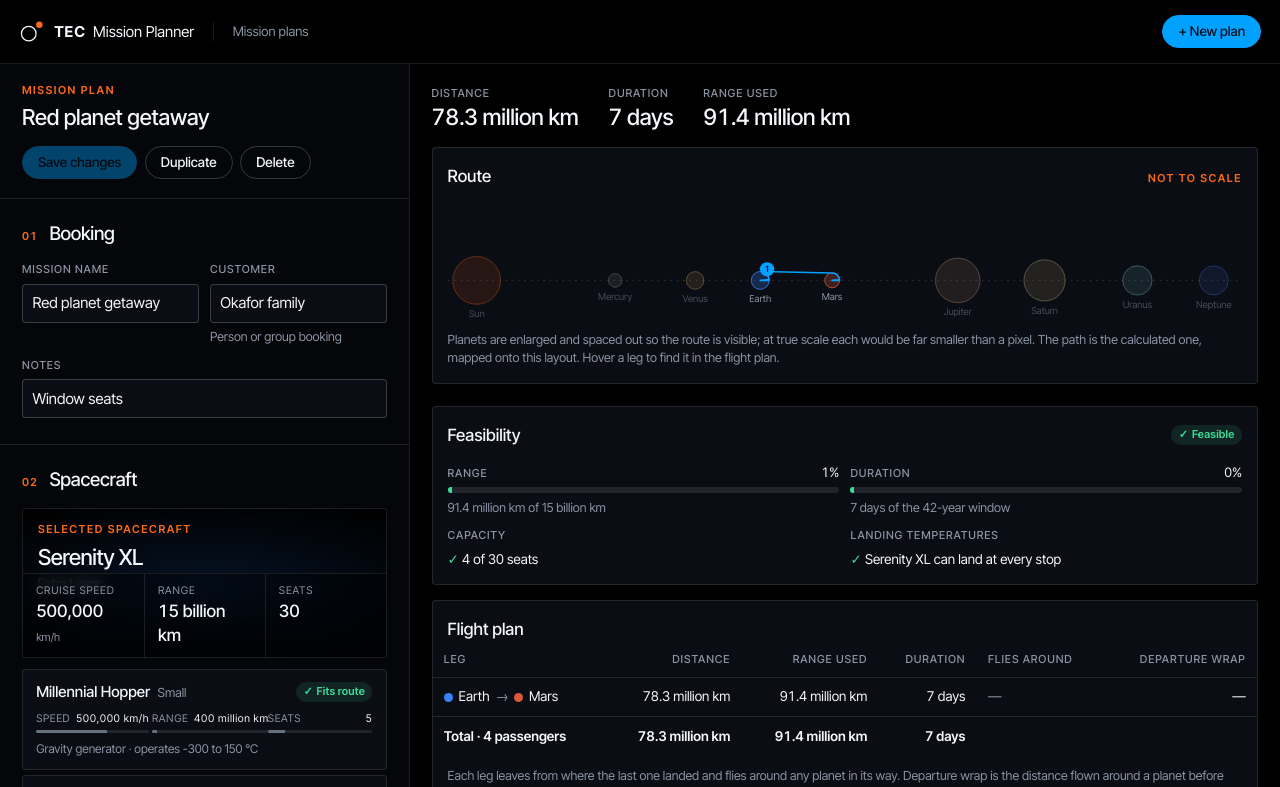
Scenario: Editing a saved plan › duplicates the plan and opens the copy
This screenshot has width=1280, height=787.
Expected: the heading "Red planet getaway" is shown, top-left (22, 104), bottom-right (209, 130)
Click the button "Duplicate": (189, 162) top-left (145, 146), bottom-right (233, 179)
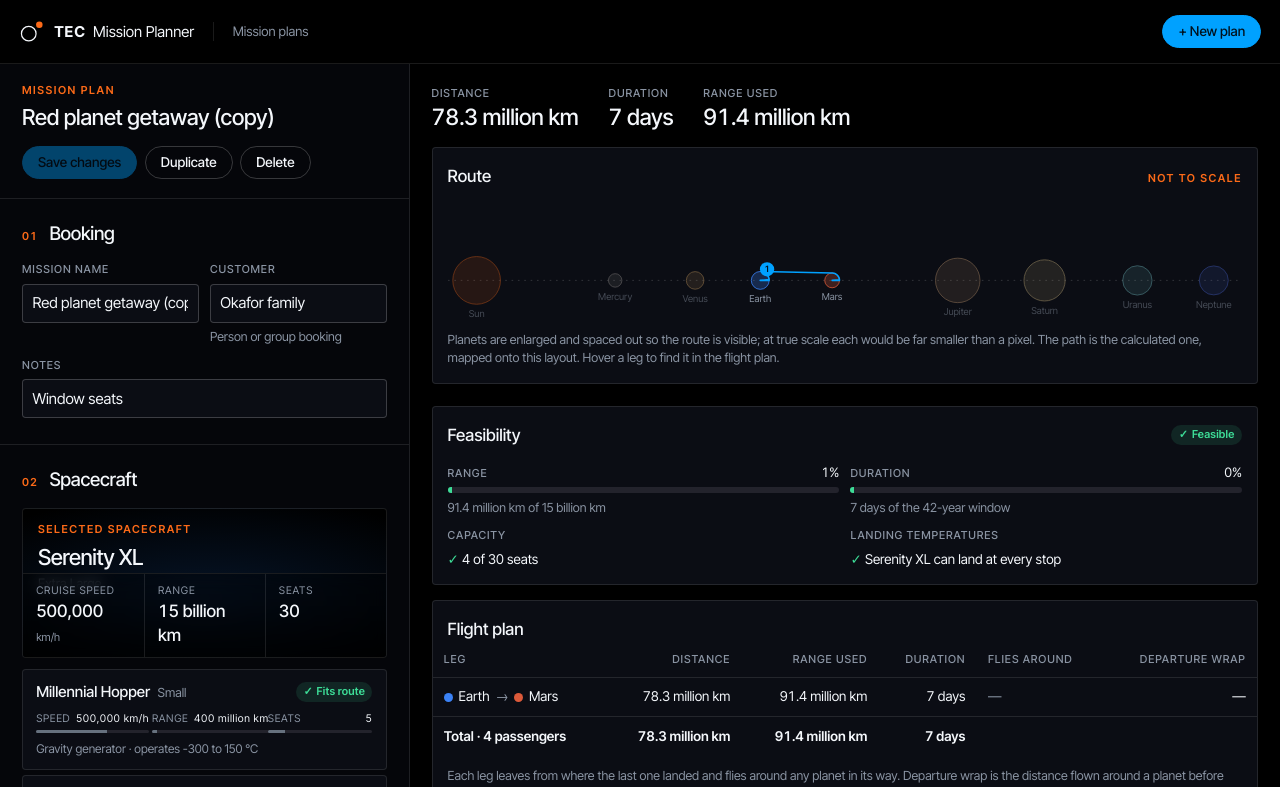
Now the heading "Red planet getaway (copy)" is shown, box top-left (22, 104), bottom-right (274, 130)
